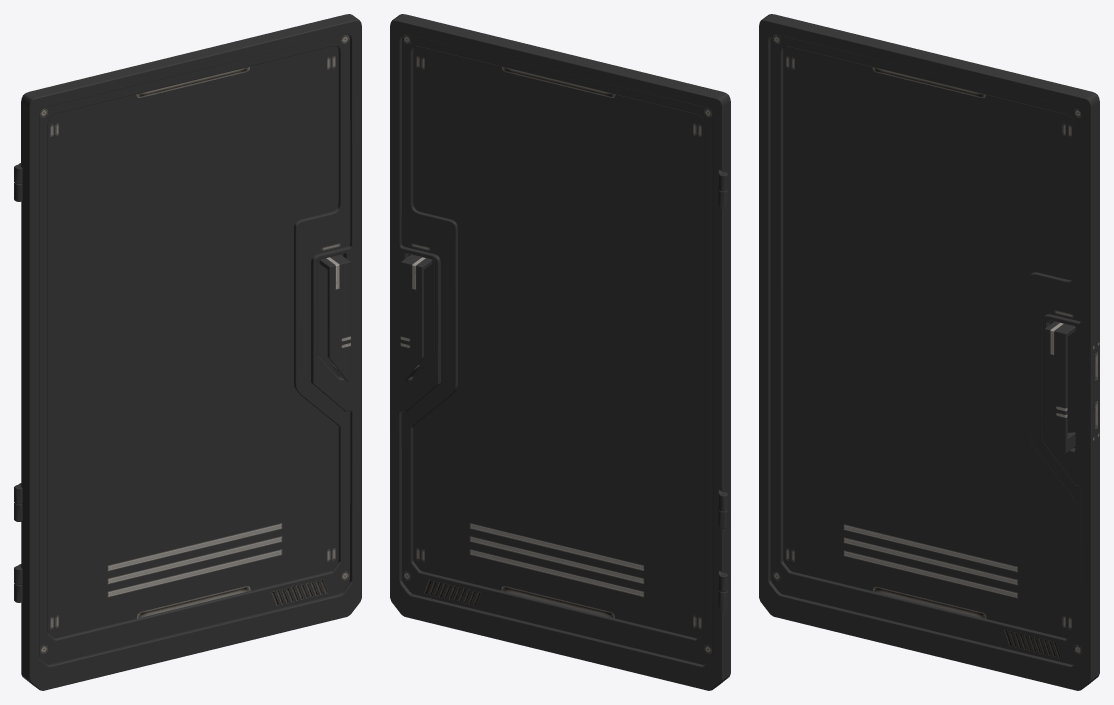
The model's file is SM_Door_Solid_Single_01.FBX.
3 renders of one model, left to right at view 1: azimuth 30°, elevation 25°; view 2: azimuth 150°, elevation 25°; view 3: azimuth 330°, elevation 25°, orthographic.
Visible parts, largest first — view 1: SM_Door_Solid_Single_01_LOD0; view 2: SM_Door_Solid_Single_01_LOD0; view 3: SM_Door_Solid_Single_01_LOD0.
Part boxes in pixels (x1,y1,x2,y2): SM_Door_Solid_Single_01_LOD0: (14, 14, 361, 690); SM_Door_Solid_Single_01_LOD0: (390, 14, 730, 690); SM_Door_Solid_Single_01_LOD0: (759, 14, 1099, 690).
Size of what is drawn, in the model's own units: 121 by 14.63 by 203.
